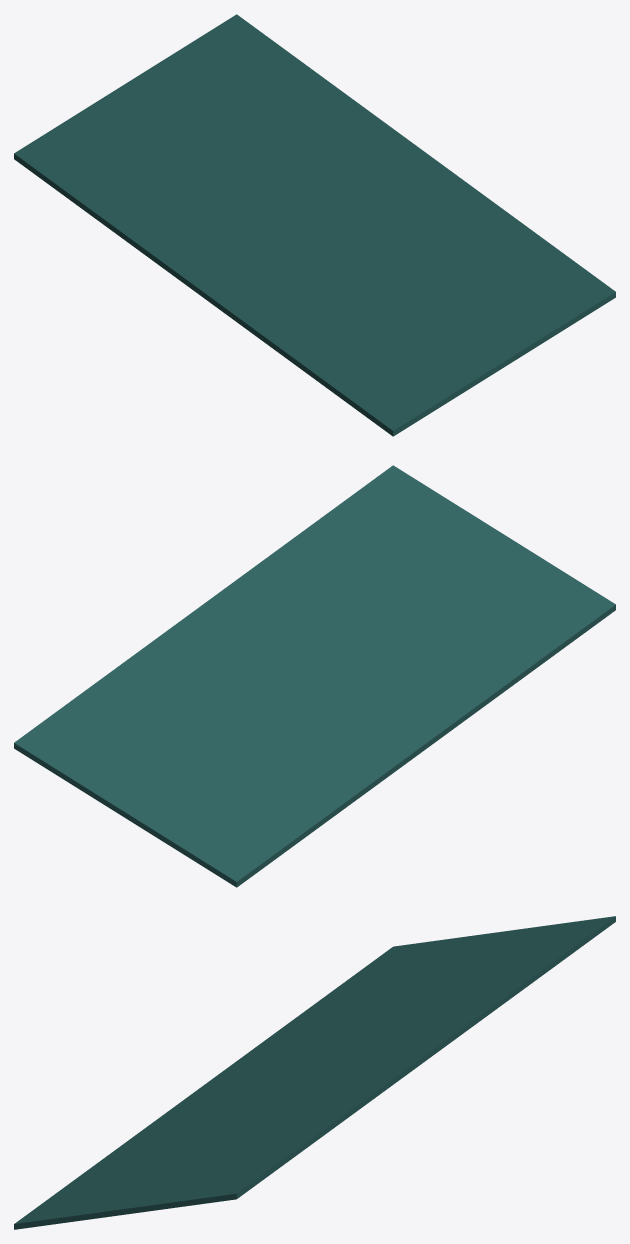
3 views of the same model, one above another, from view 1: azimuth 30°, elevation 25°; view 2: azimuth 150°, elevation 25°; view 3: azimuth 330°, elevation 25° (orthographic).
Parts seen in each view (by area): view 1: ROOF-B5-0; view 2: ROOF-B5-0; view 3: ROOF-B5-0.
Part boxes in pixels (x1=…): ROOF-B5-0: x1=14, y1=14, x2=615, y2=436; ROOF-B5-0: x1=14, y1=465, x2=615, y2=887; ROOF-B5-0: x1=14, y1=916, x2=615, y2=1229.
Bounding box in the file's own units: 3.27 × 1.27 × 9.63.
